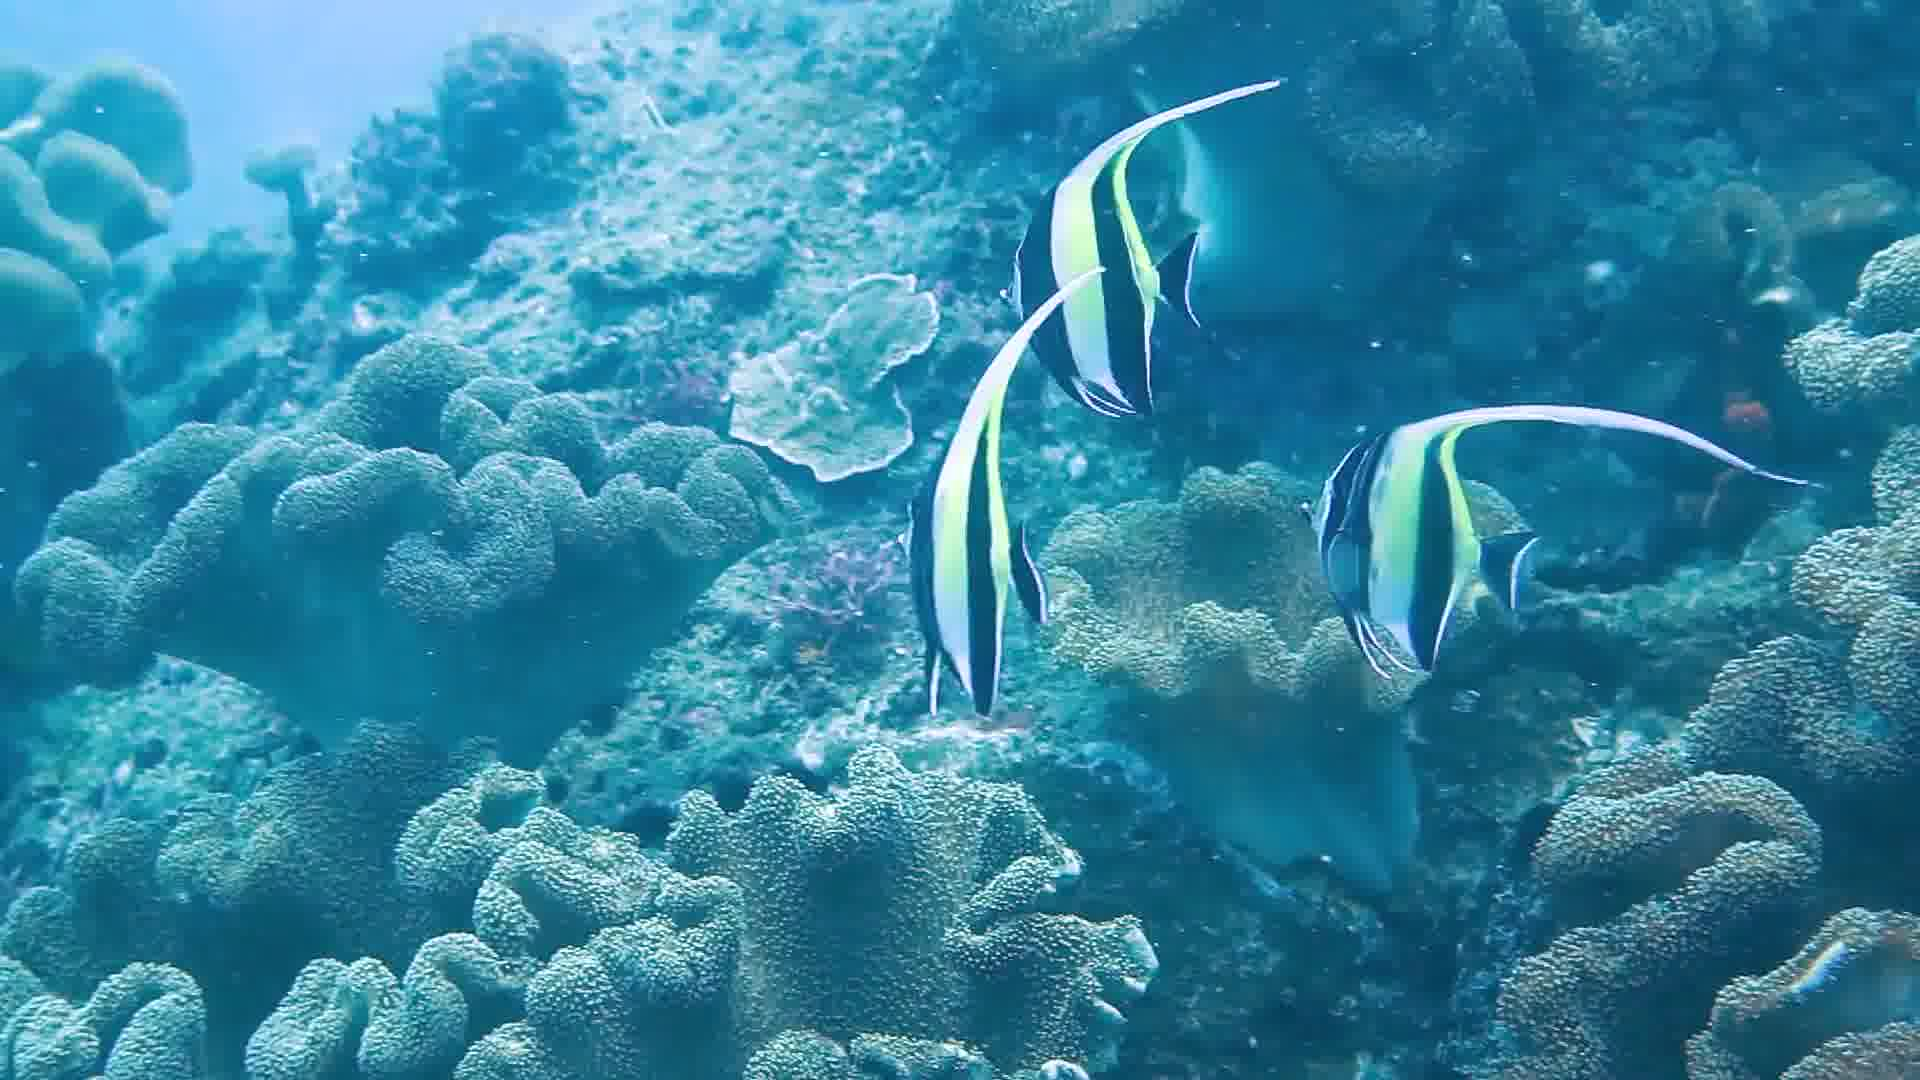Zanclus cornutus: (1304, 364, 1545, 705), (1007, 107, 1250, 406), (895, 371, 1046, 724)
